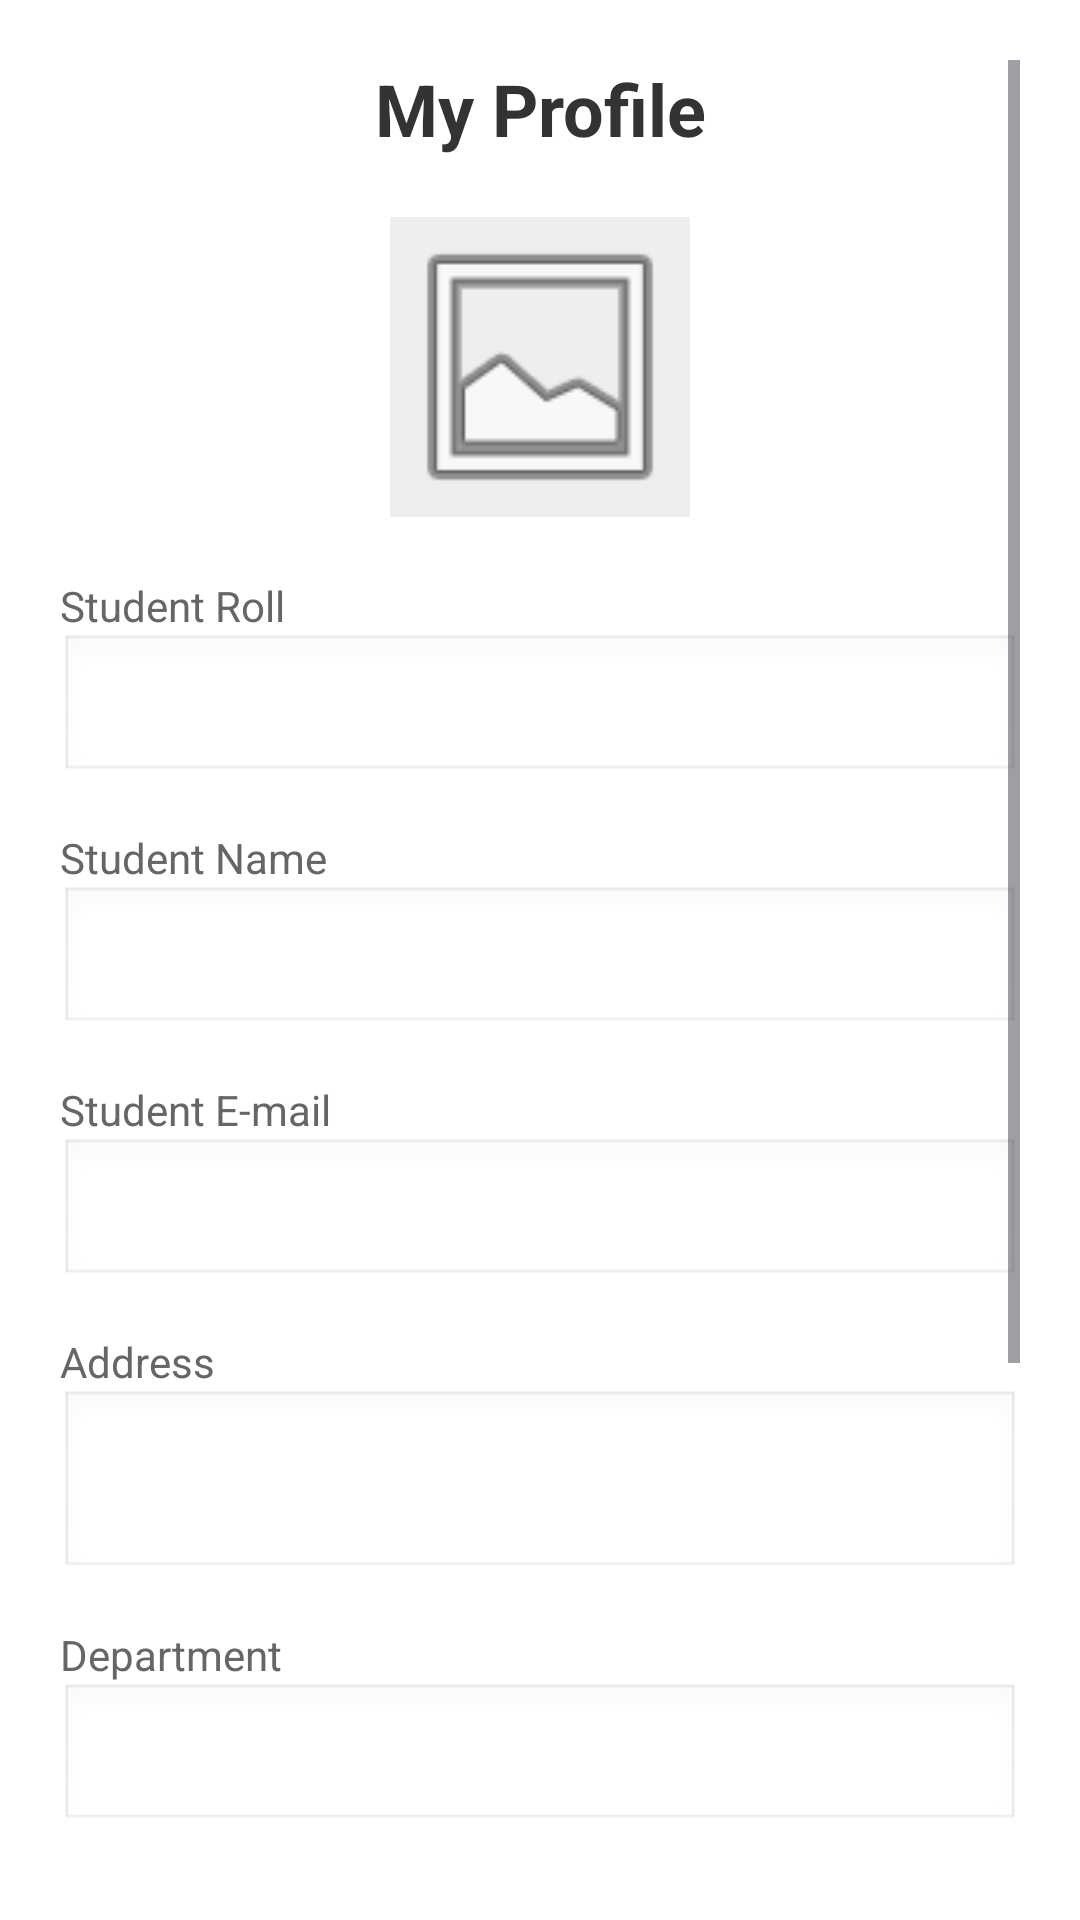

Icon bounding boxes for this 1080w x 1920h phone screenshot, format Rect(x1, y1, x2, y2):
gallery: Rect(390, 217, 690, 517)
